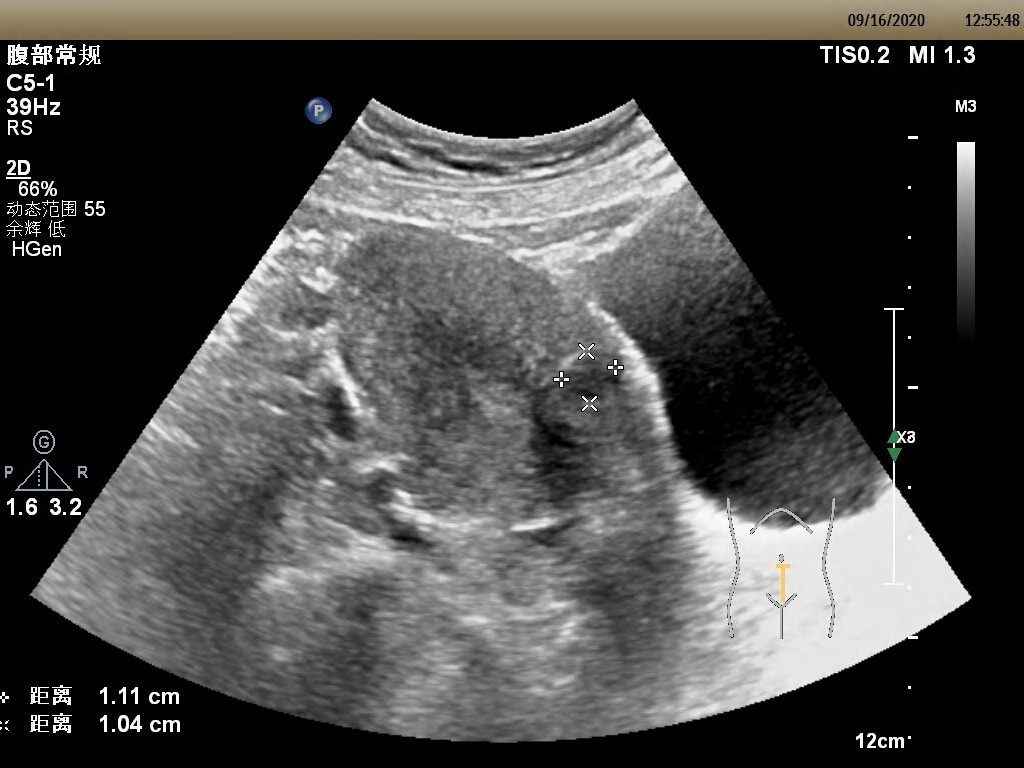肌瘤: (560, 354, 615, 404)
